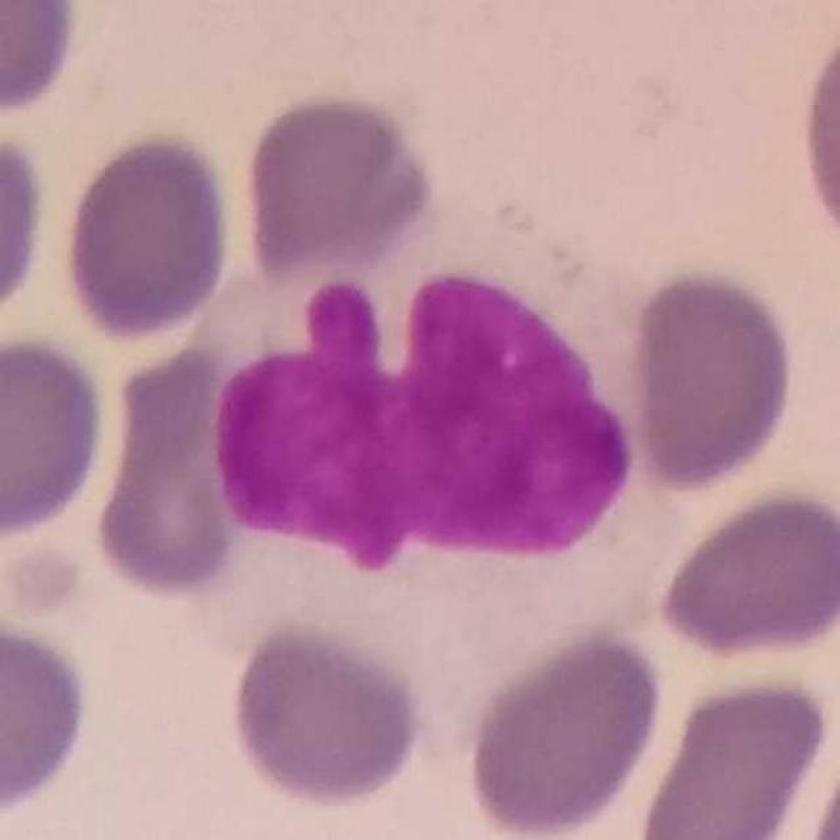monocyte: (198, 202, 668, 733)
